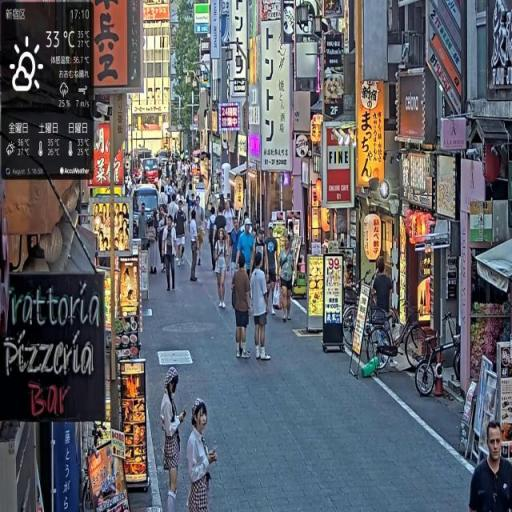person: (160, 366, 187, 512), (469, 421, 512, 512), (187, 399, 220, 512), (249, 251, 271, 362), (232, 257, 252, 364), (278, 235, 297, 324), (214, 222, 231, 311), (162, 215, 179, 293), (238, 221, 257, 280), (188, 210, 202, 285), (175, 200, 188, 269)
